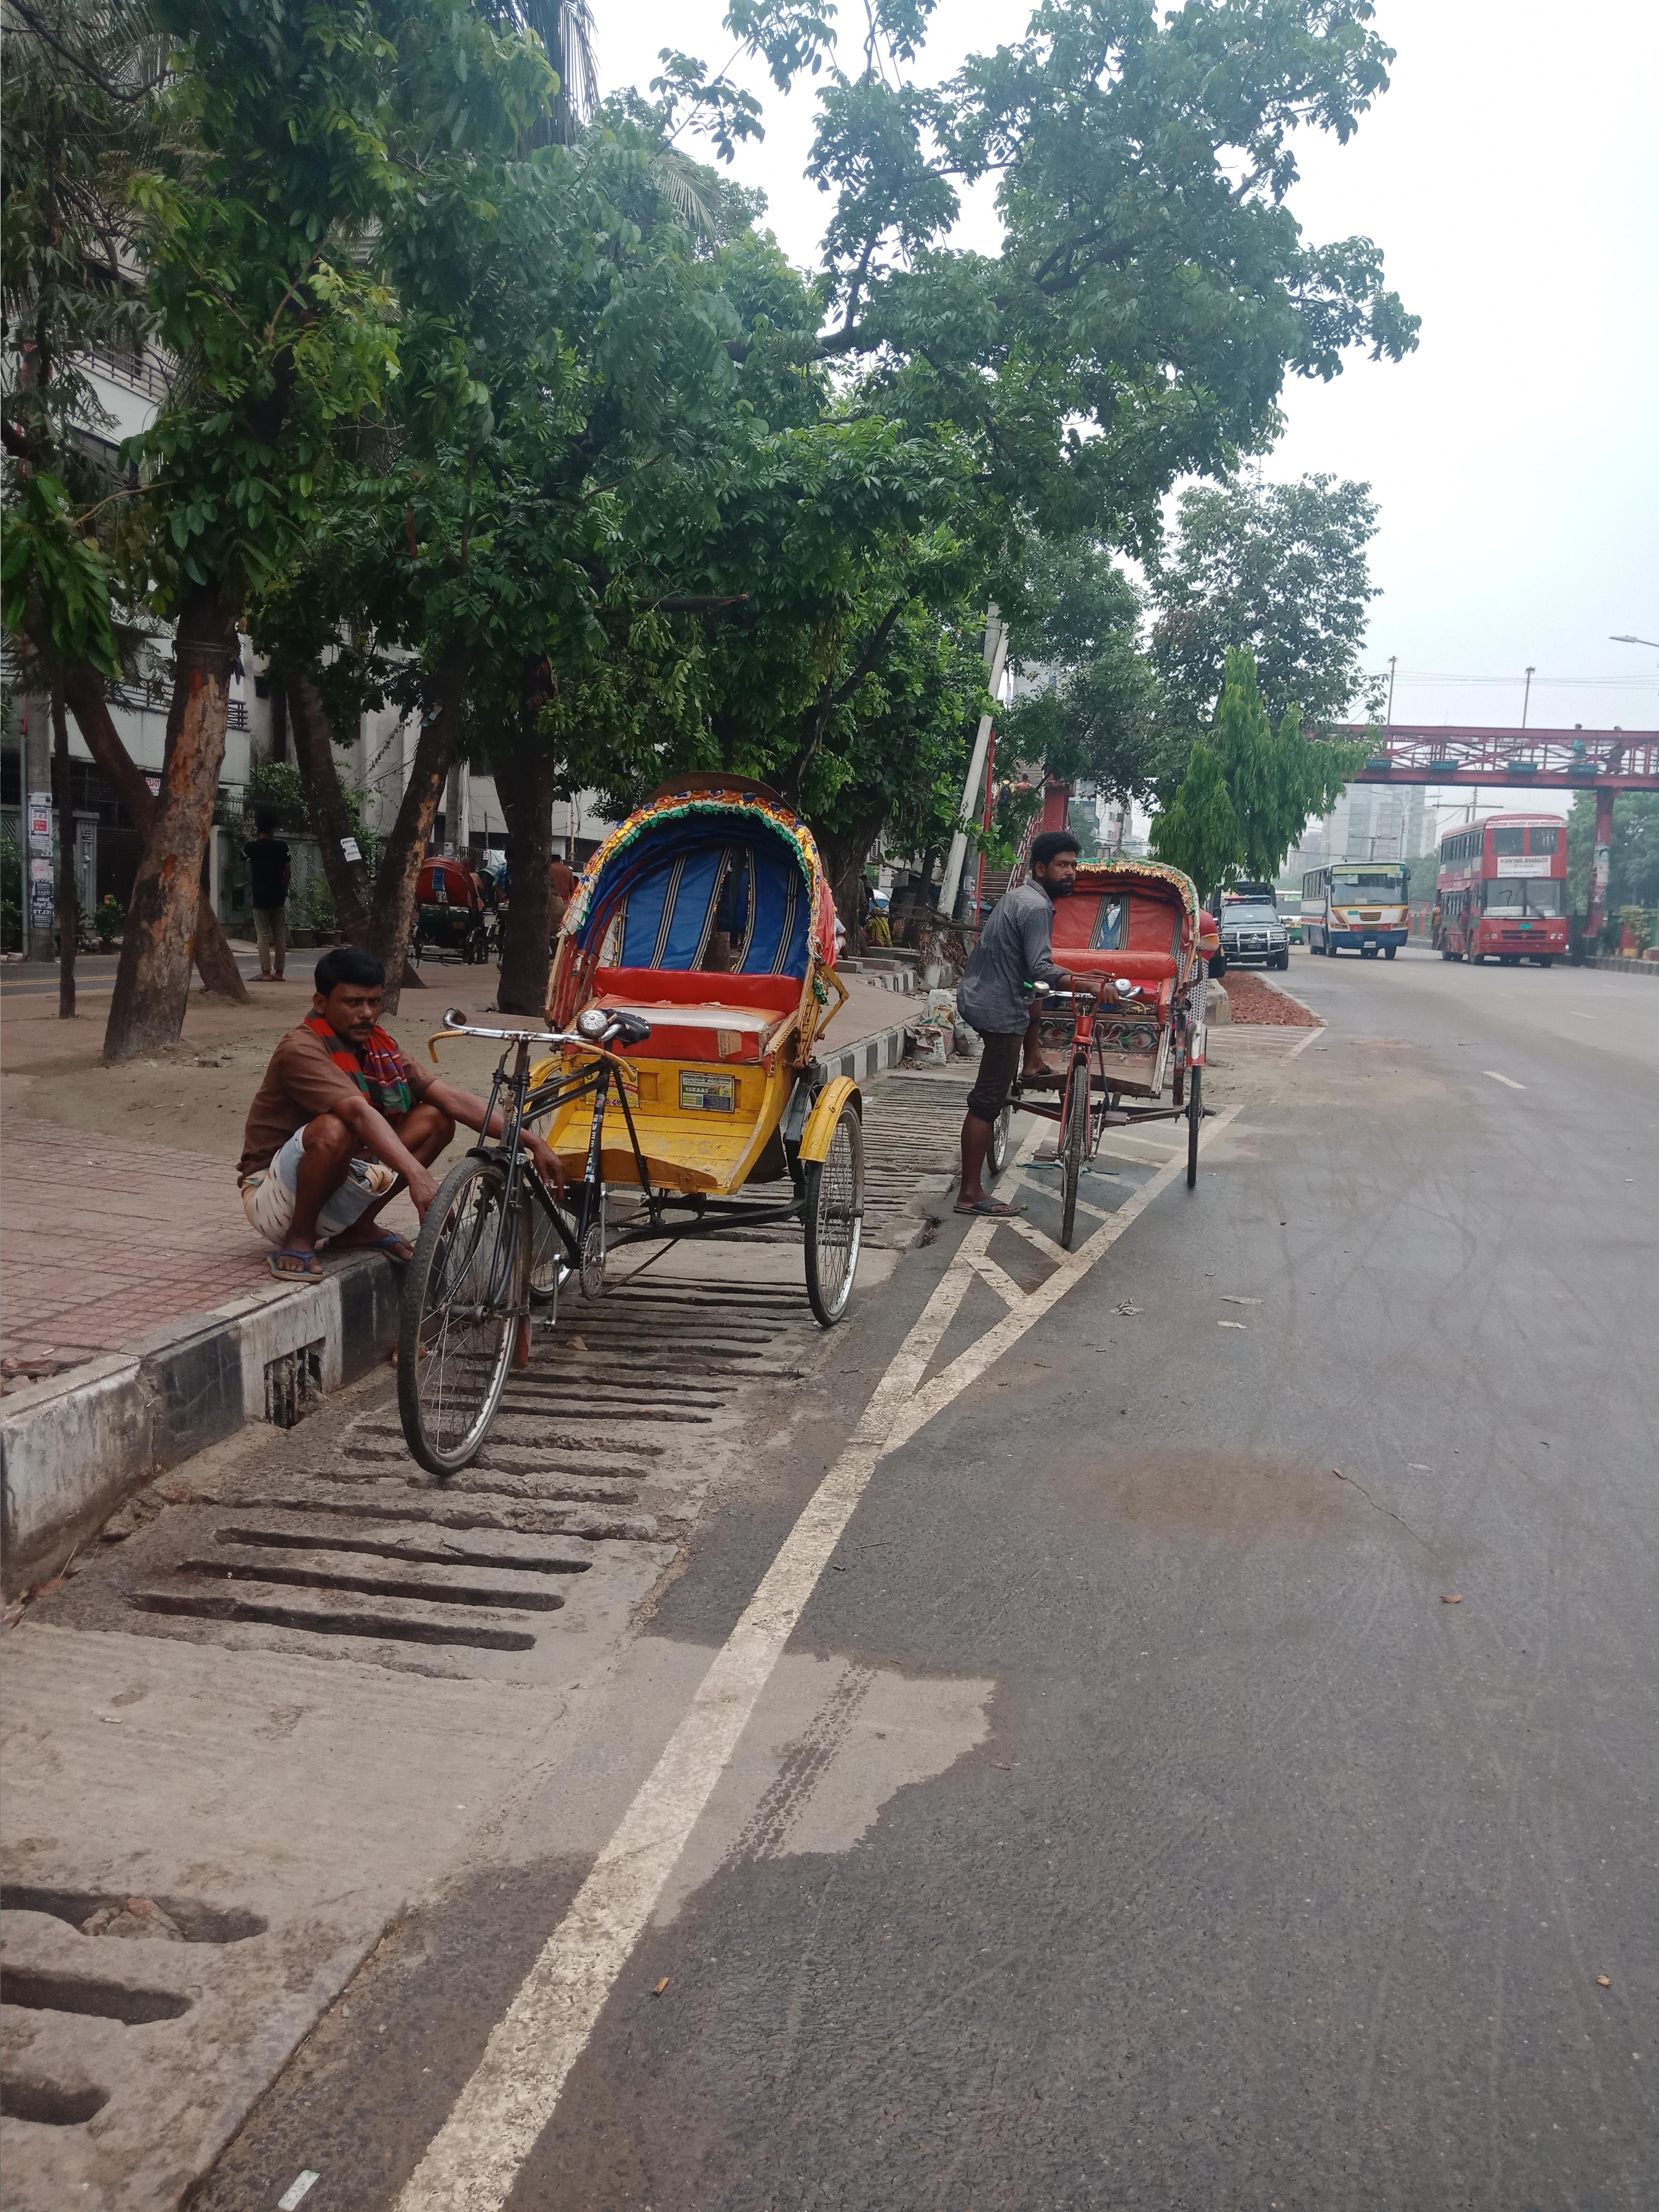Rickshaw: (371, 747, 892, 1468), (965, 817, 1230, 1249)
